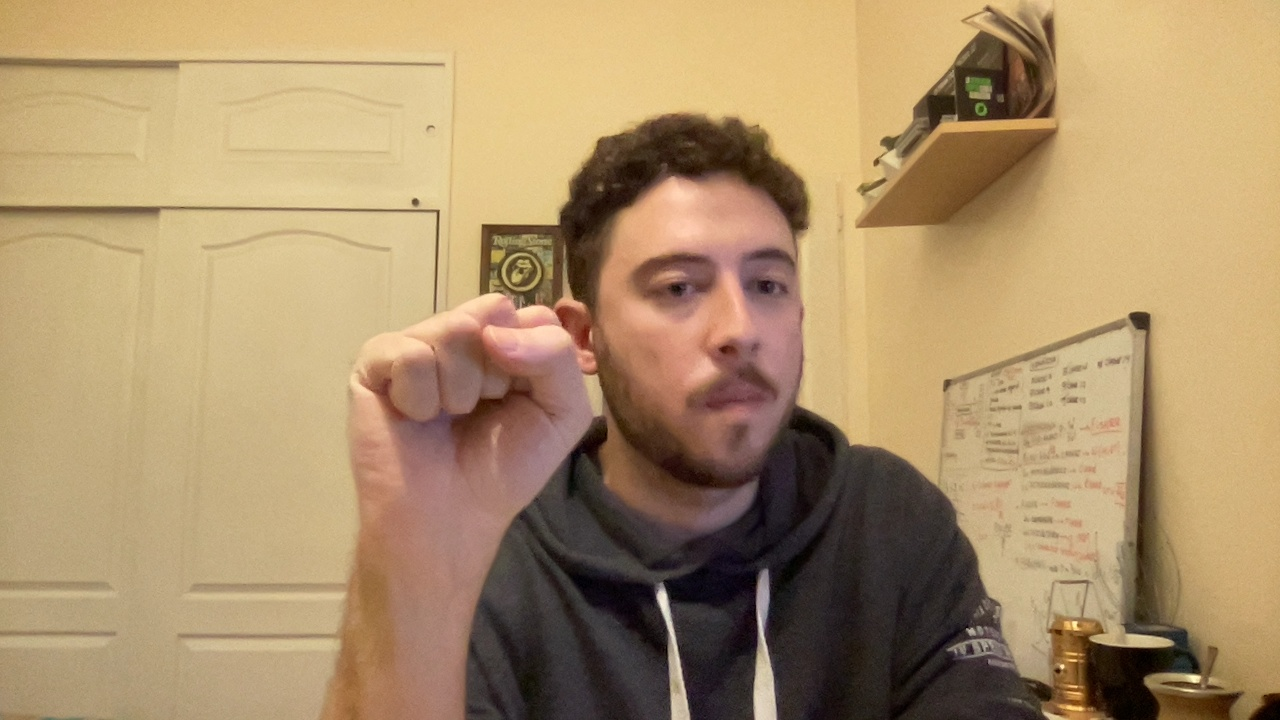cerrado: (310, 267, 611, 514)
